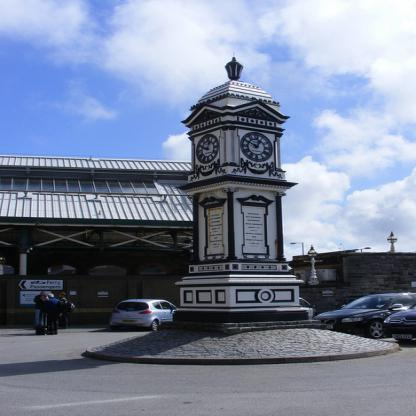backpack: (67, 301, 76, 313)
